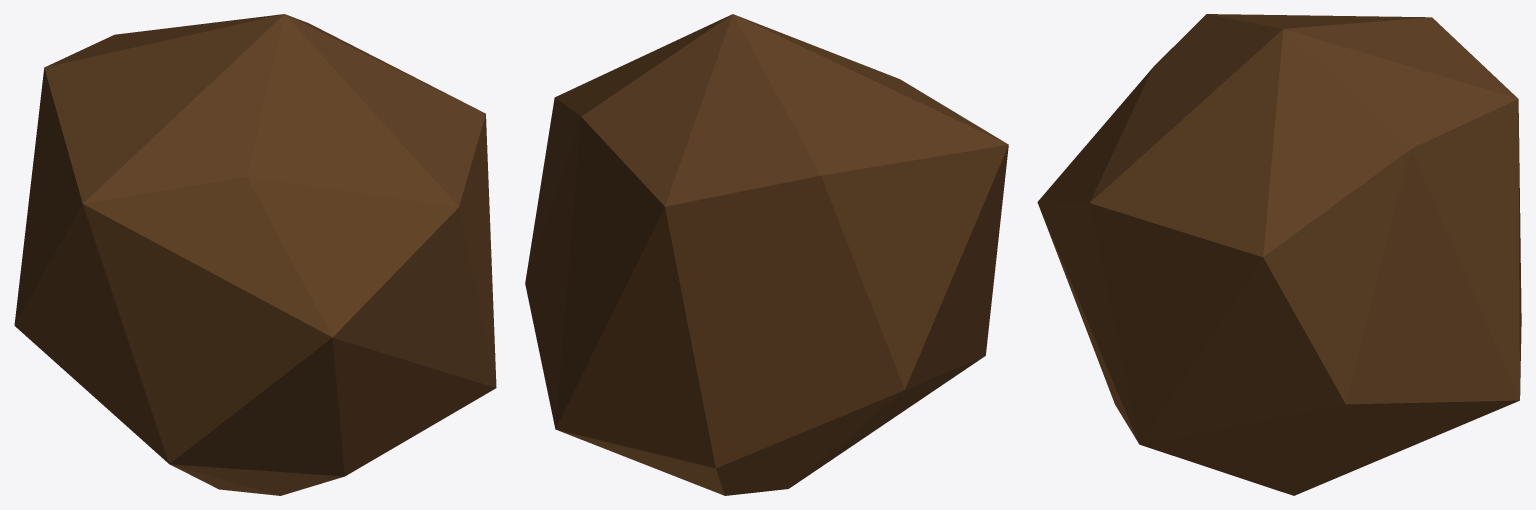
Rendered from SM_Flower_Dandelion_Floating_Single_Bloomed_A.fbx.
3 renders of one model, left to right at view 1: azimuth 30°, elevation 25°; view 2: azimuth 150°, elevation 25°; view 3: azimuth 270°, elevation 25°, orthographic.
Visible parts, largest first — view 1: flower-dandelion-floating-single-bloomed-a; view 2: flower-dandelion-floating-single-bloomed-a; view 3: flower-dandelion-floating-single-bloomed-a.
Boxes of the visible parts, bbox=[...] form: flower-dandelion-floating-single-bloomed-a: bbox=[14, 14, 496, 495]; flower-dandelion-floating-single-bloomed-a: bbox=[525, 14, 1008, 495]; flower-dandelion-floating-single-bloomed-a: bbox=[1037, 14, 1521, 495].
Bounding box in the file's own units: 0.1215 × 0.1248 × 0.1197.
